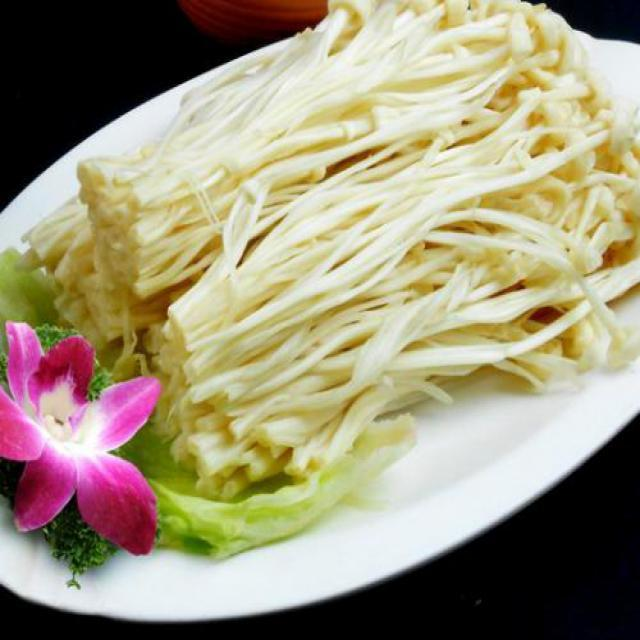Flammulina velutiper: (26, 0, 640, 496)
